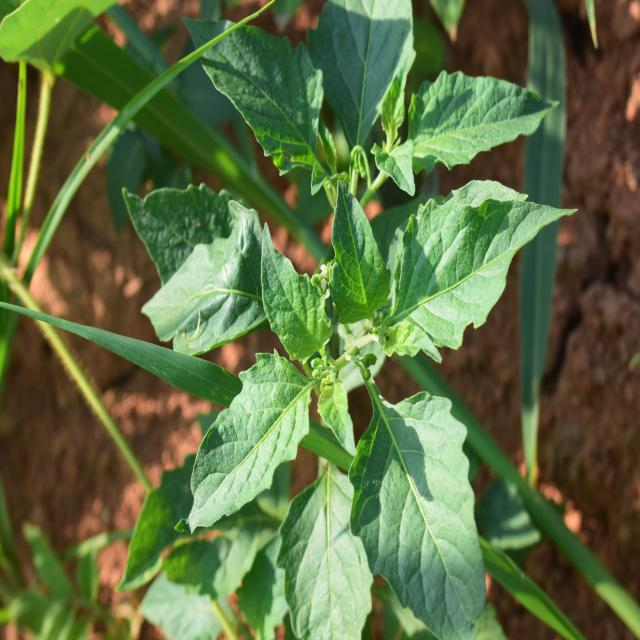Black_nightshade: (168, 172, 542, 610), (219, 0, 552, 212)
